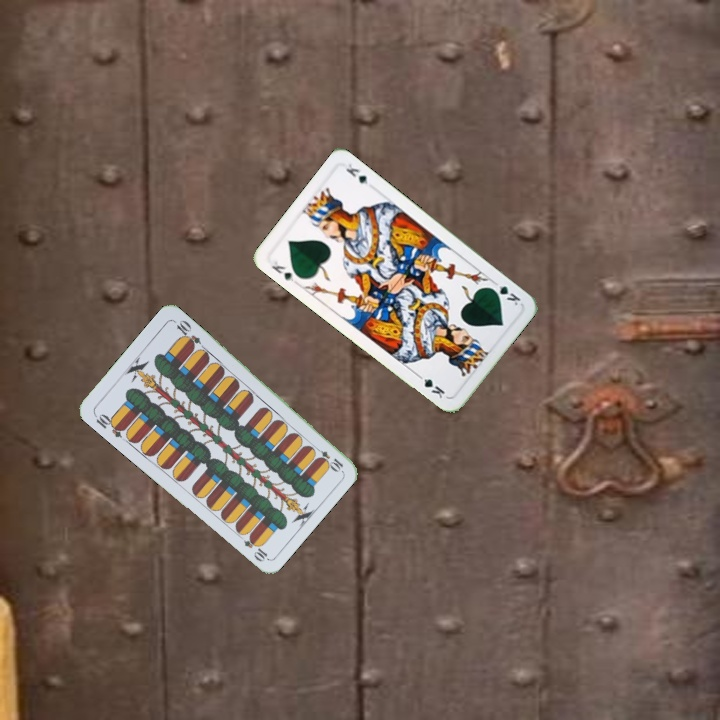E10: (309, 442, 346, 474), (90, 409, 128, 440)
GK: (486, 281, 523, 308), (267, 257, 296, 284)
